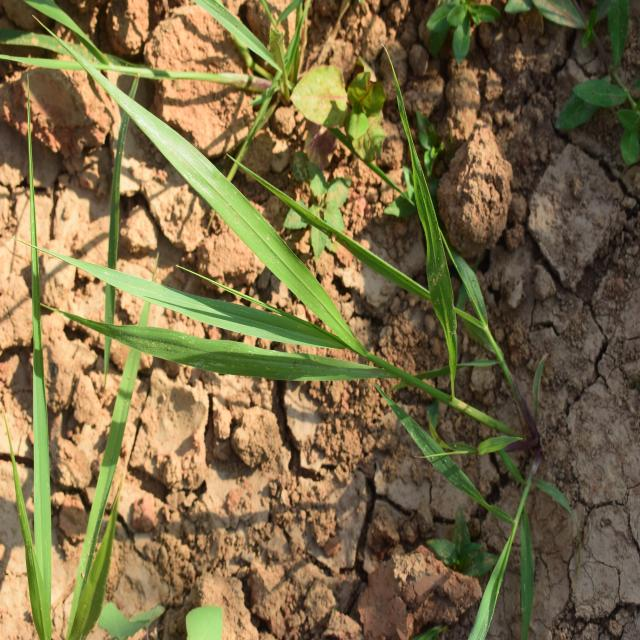green_foxtail: (126, 161, 538, 566)
